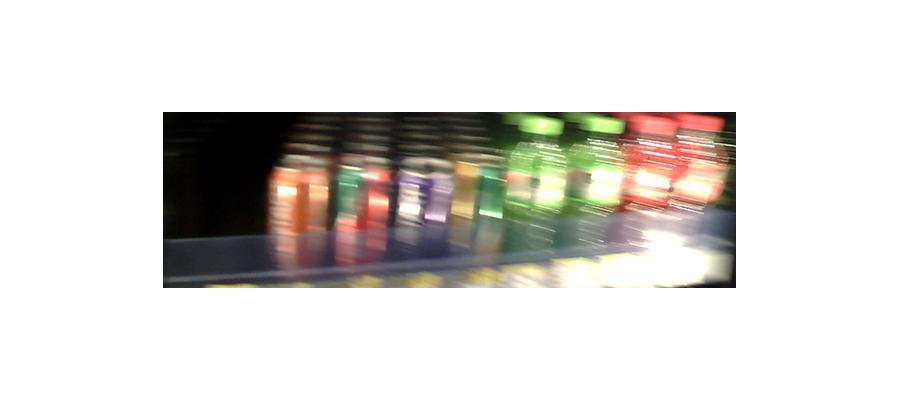bottle: (567, 112, 624, 274), (267, 137, 333, 271), (509, 111, 564, 271), (392, 159, 454, 259), (454, 147, 506, 257)
